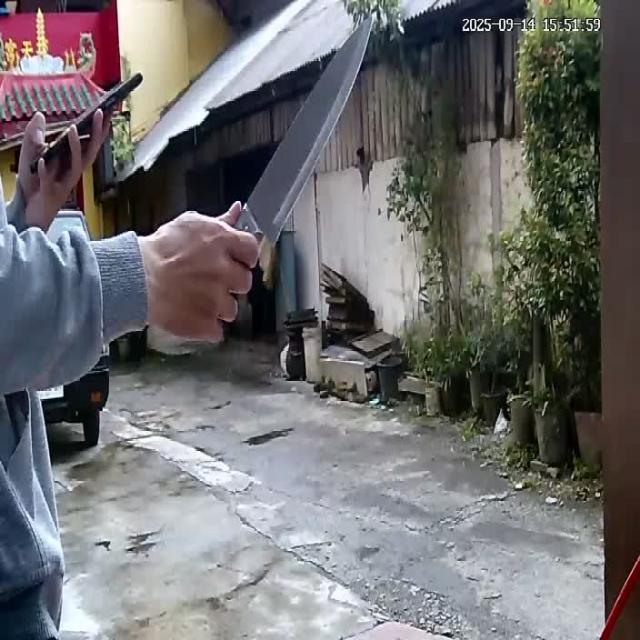senjata_tajam: (243, 12, 374, 252)
